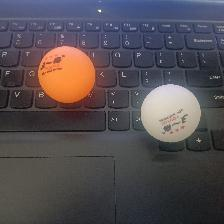WhiteBall: (139, 83, 201, 143)
YellowBall: (37, 45, 95, 104)
